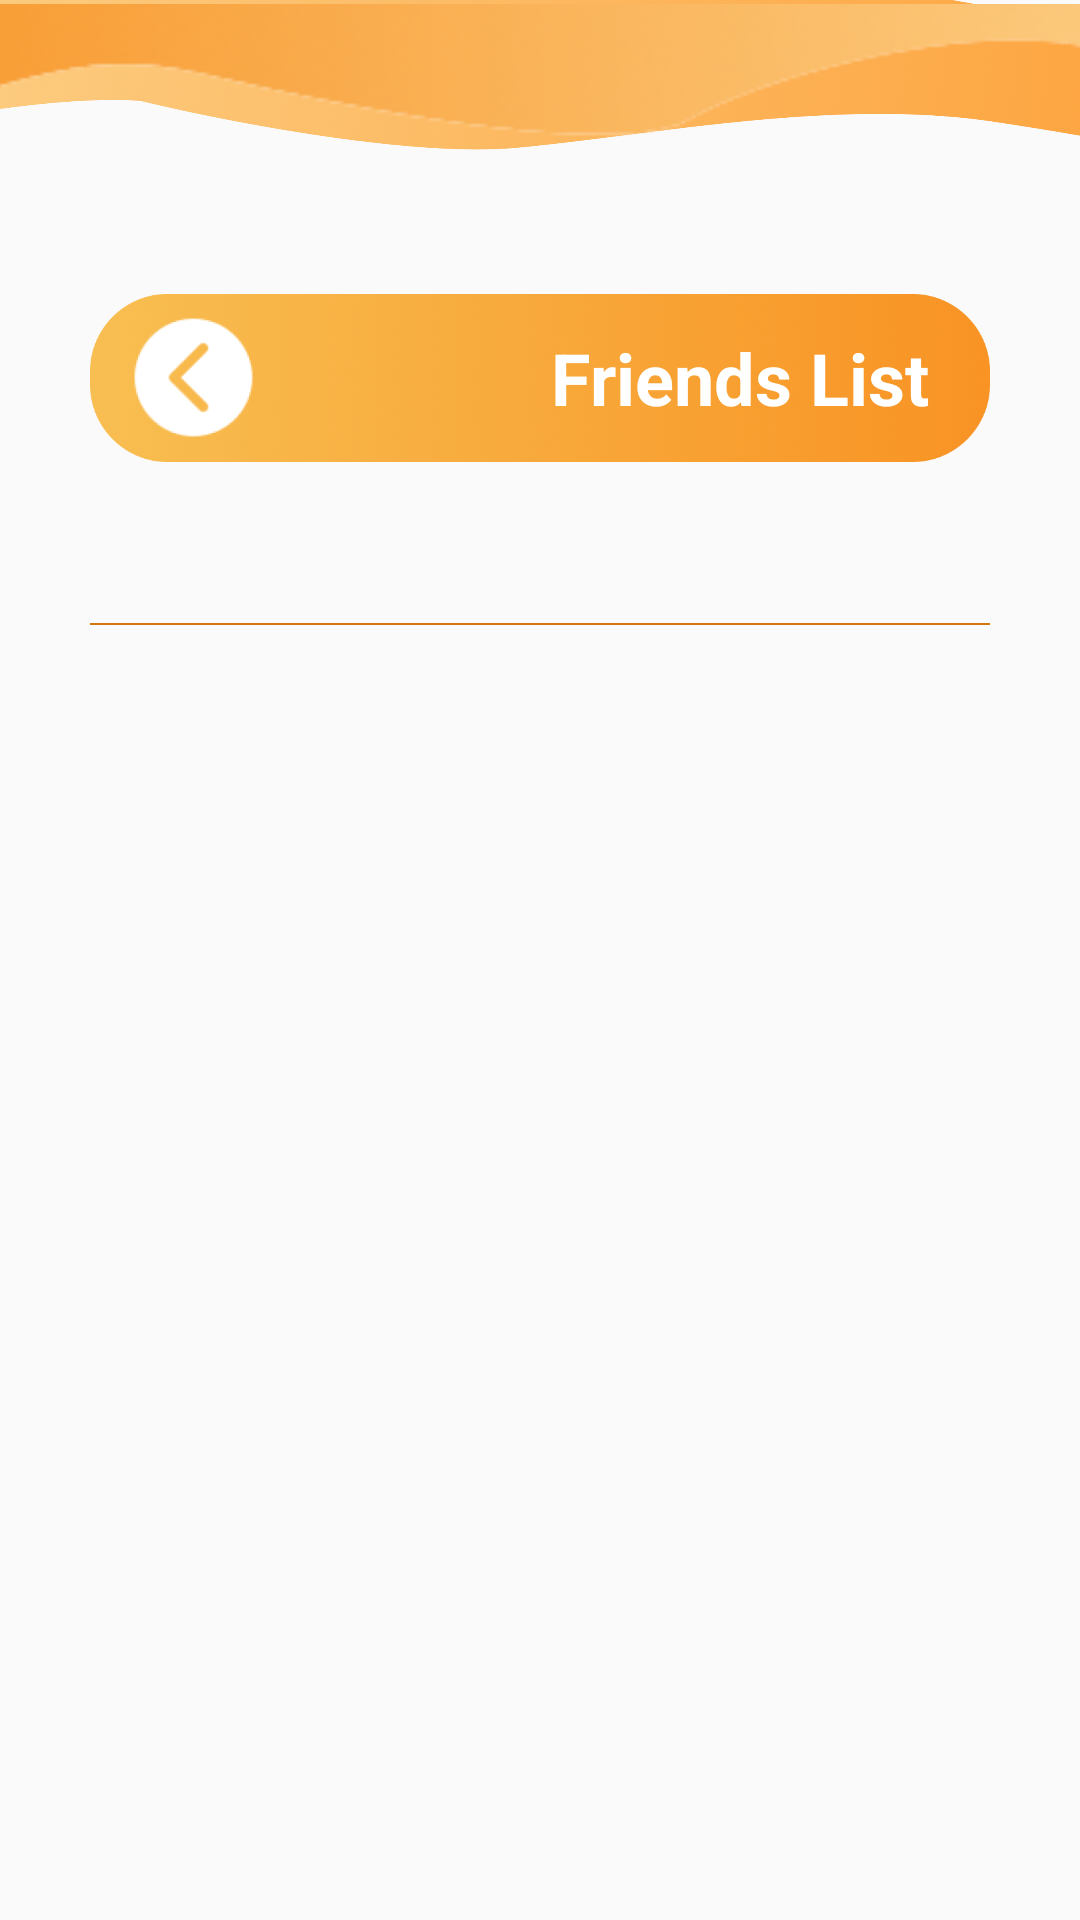

Locate icon controls on the screen. Image size 1080 × 1920, boxes as (x1, y1, x2, y2).
backto: (134, 318, 253, 437)
